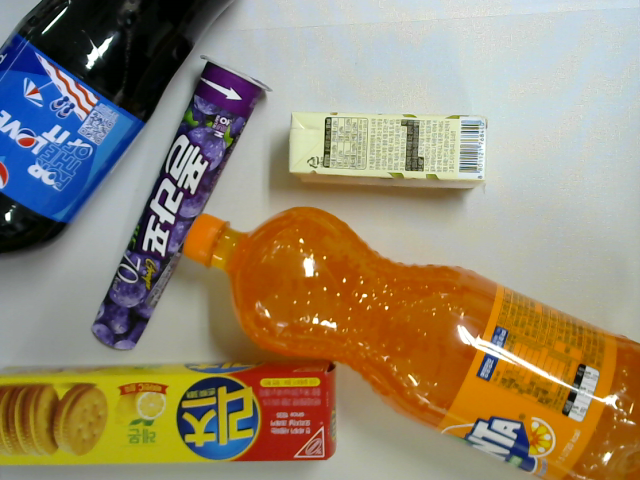99.89_Soymilk: (278, 107, 496, 197)
Hwanta_Orange_1.5L: (175, 201, 638, 480)
Pepsi_Cola_1.5L: (1, 1, 249, 265)
Polapo_Grape: (91, 49, 274, 359)
Ritz_Remon_96g: (1, 354, 353, 473)
